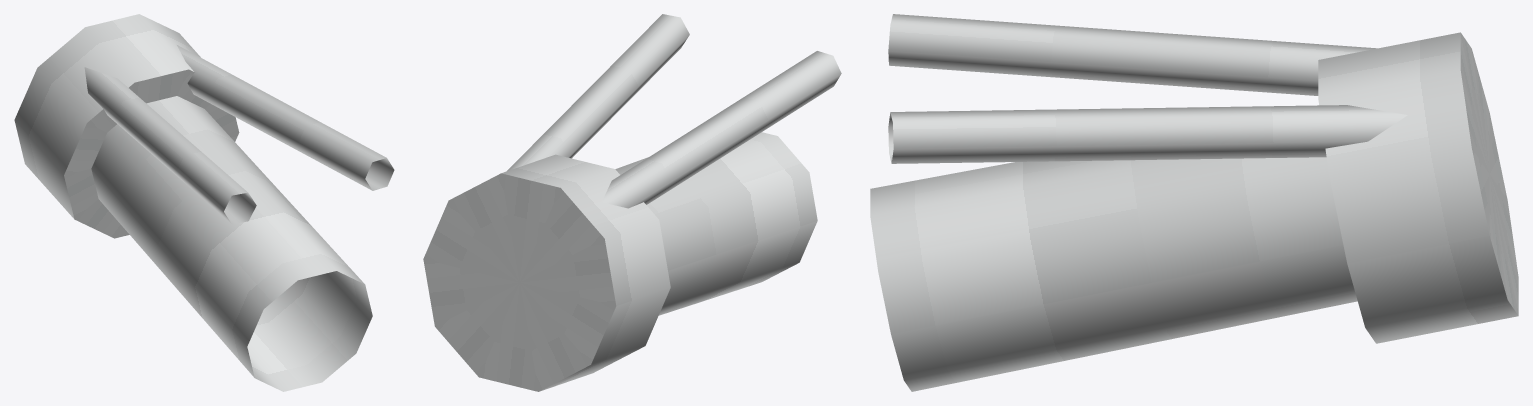
The model's file is nycsignalarm_regular6_c11.obj.
The picture shows the model from 3 angles, left to right: view 1: azimuth 30°, elevation 25°; view 2: azimuth 150°, elevation 25°; view 3: azimuth 270°, elevation 25°; orthographic projection. The views are drawn at different scales.
Visible parts, largest first — view 1: nycsignalarm_regular6_c11; view 2: nycsignalarm_regular6_c11; view 3: nycsignalarm_regular6_c11.
Part boxes in pixels (<box>): nycsignalarm_regular6_c11: <box>14,14,394,391</box>; nycsignalarm_regular6_c11: <box>423,14,841,391</box>; nycsignalarm_regular6_c11: <box>870,14,1518,391</box>.
Bounding box in the file's own units: 0.35 × 0.4331 × 0.7785.
